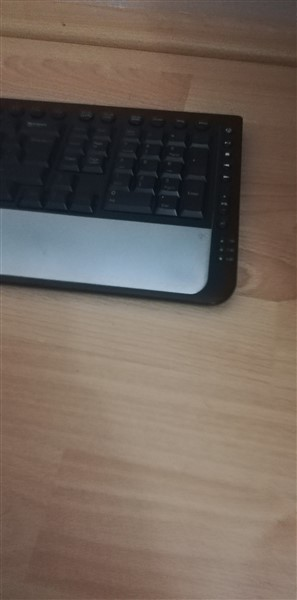klavye: (1, 98, 245, 306)
